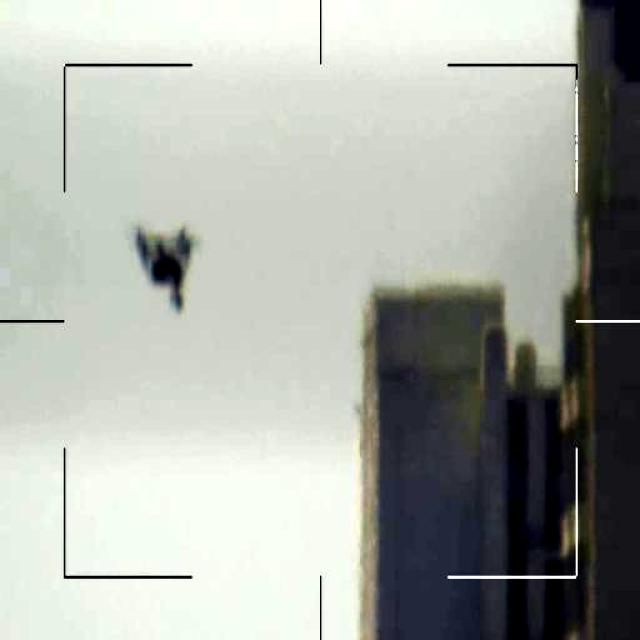bird: (135, 224, 198, 310)
